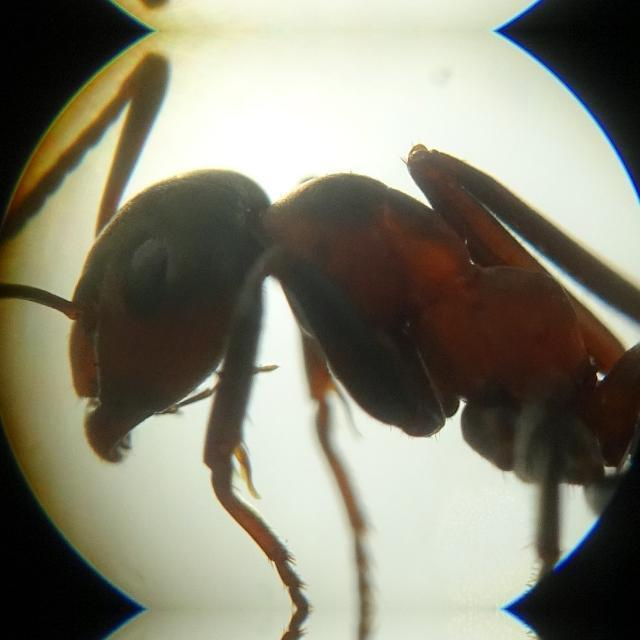Formica: (58, 170, 640, 512)
